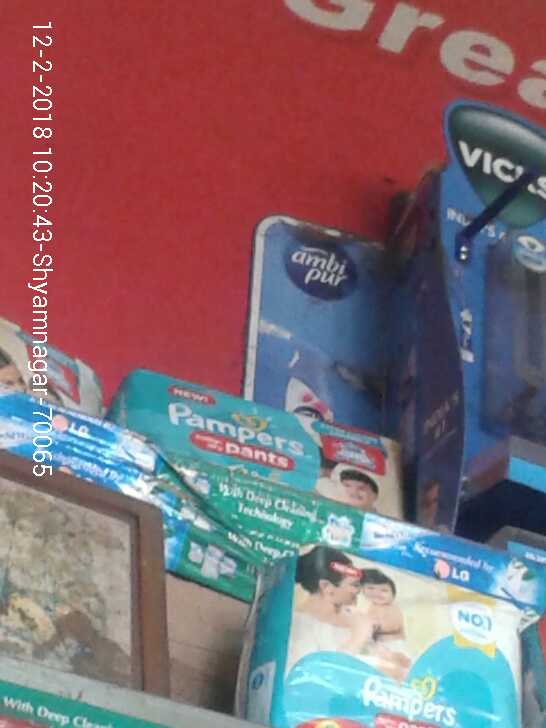pampers: (115, 359, 416, 519), (259, 548, 522, 728)
